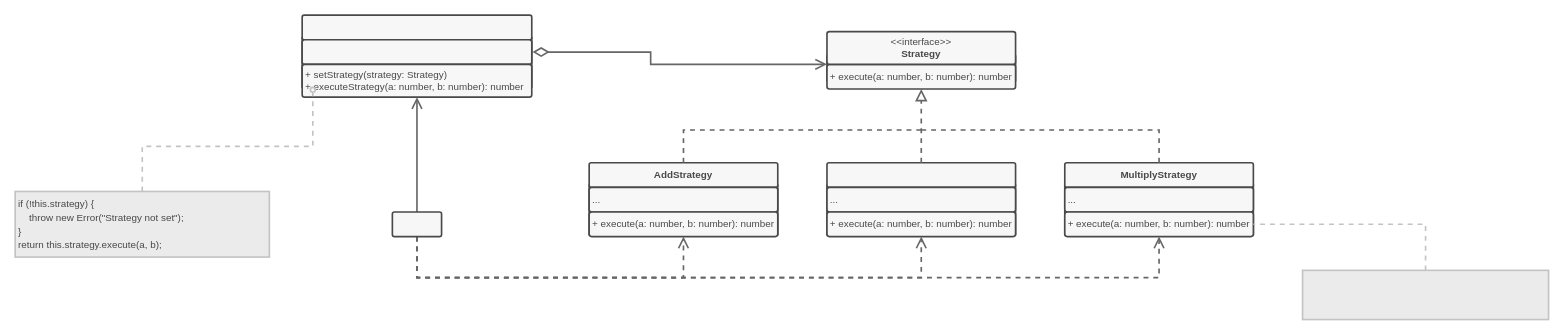
This 1563x335 diagram has some shape labels left out. Here are the shapes that lost their labels. From the top down, the centre of each, then its label:
At (x=416, y=27): "Context".
At (x=416, y=52): "- strategy: Strategy".
At (x=921, y=175): "SubtractStrategy".
At (x=416, y=224): "Client".
At (x=1425, y=294): "execute(a: number, b: number): number { return a * b; }".
